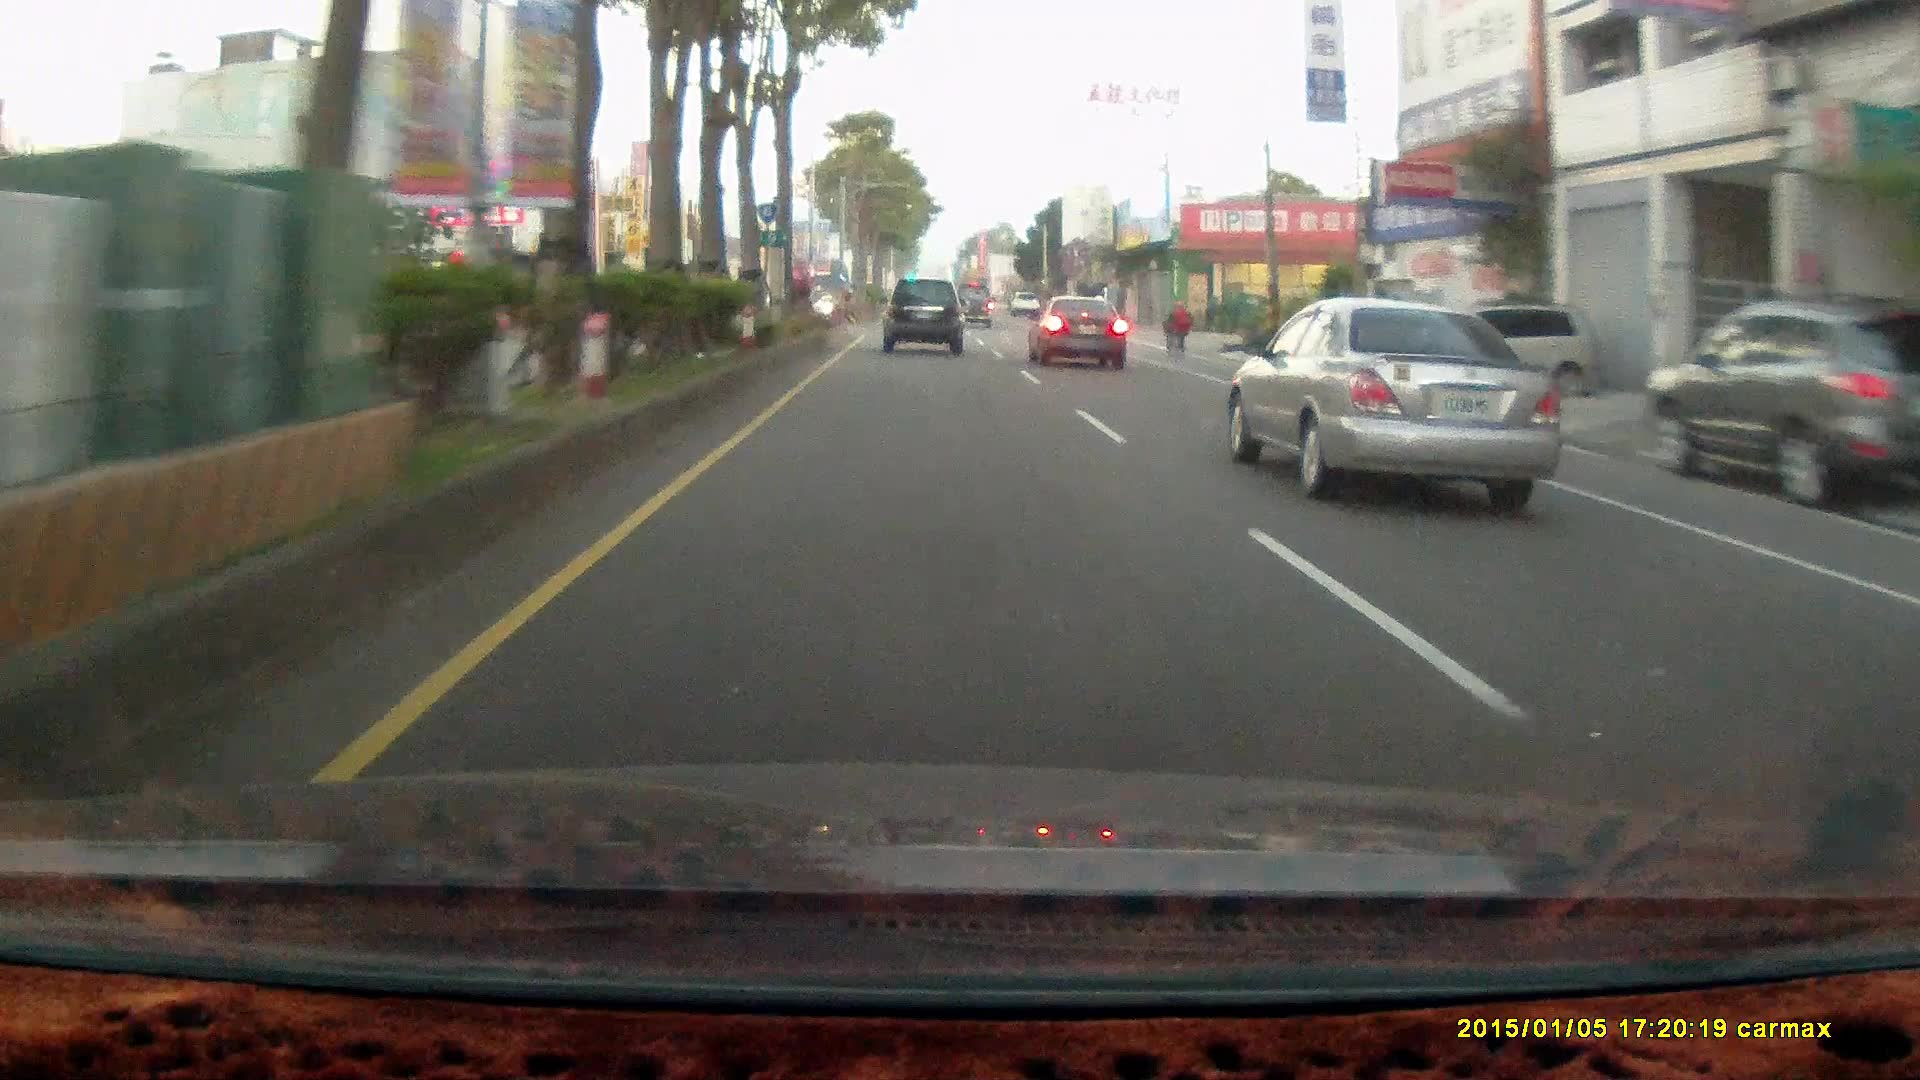pedestrian: (1170, 299, 1192, 355), (1171, 300, 1192, 354)
vehicle: (1234, 297, 1564, 496), (1646, 296, 1920, 515), (1641, 296, 1920, 505), (1406, 300, 1599, 398), (1412, 300, 1603, 399), (1026, 299, 1131, 374), (1026, 293, 1126, 369), (881, 280, 970, 356), (881, 278, 962, 353), (955, 282, 994, 328)
